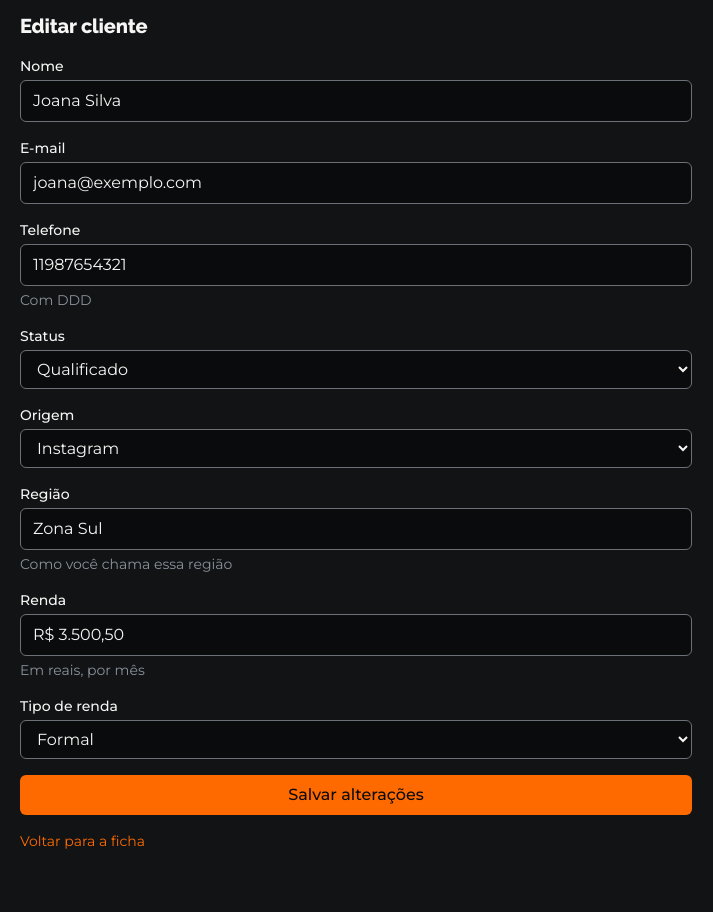
Test: EditarCliente › mantém a tela e os dados digitados quando o serviço recusa
Replace the text in the field labelled "Nome" with "Joana M. Silva" at (356, 101), box x1=20 y1=80 x2=692 y2=122
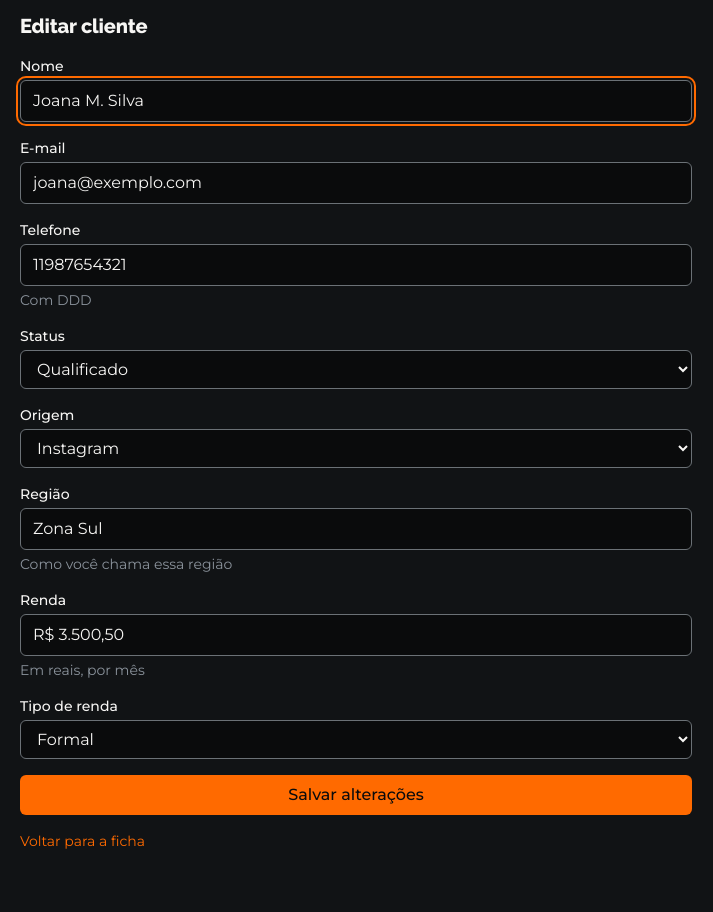
Click the button "Salvar alterações" at (356, 795), box x1=20 y1=775 x2=692 y2=815
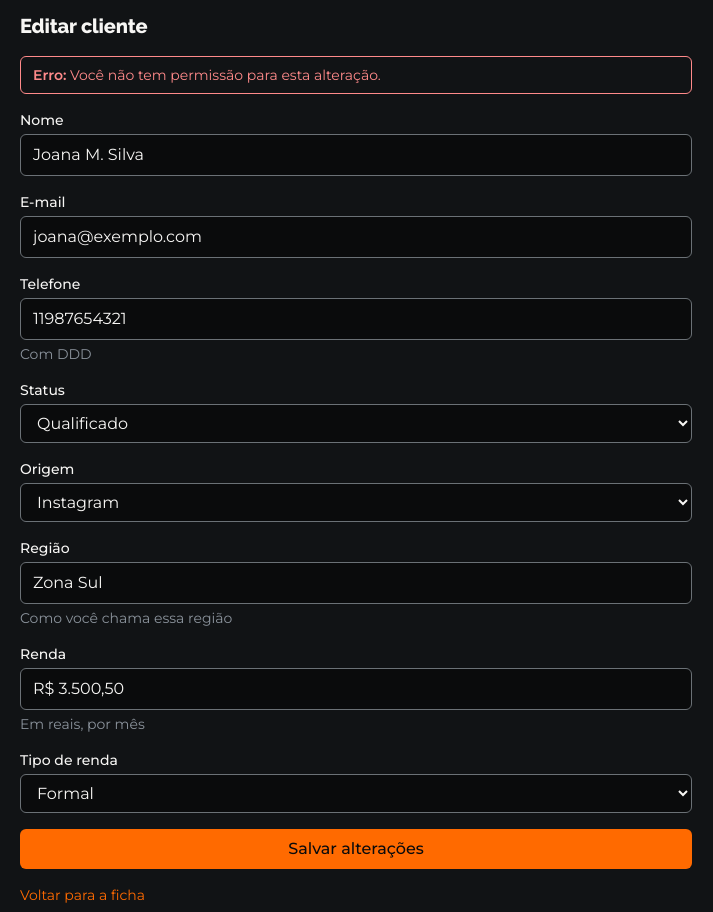
Expected: the message shows "Você não tem permissão para esta alteração.", x1=70 y1=66 x2=381 y2=84
